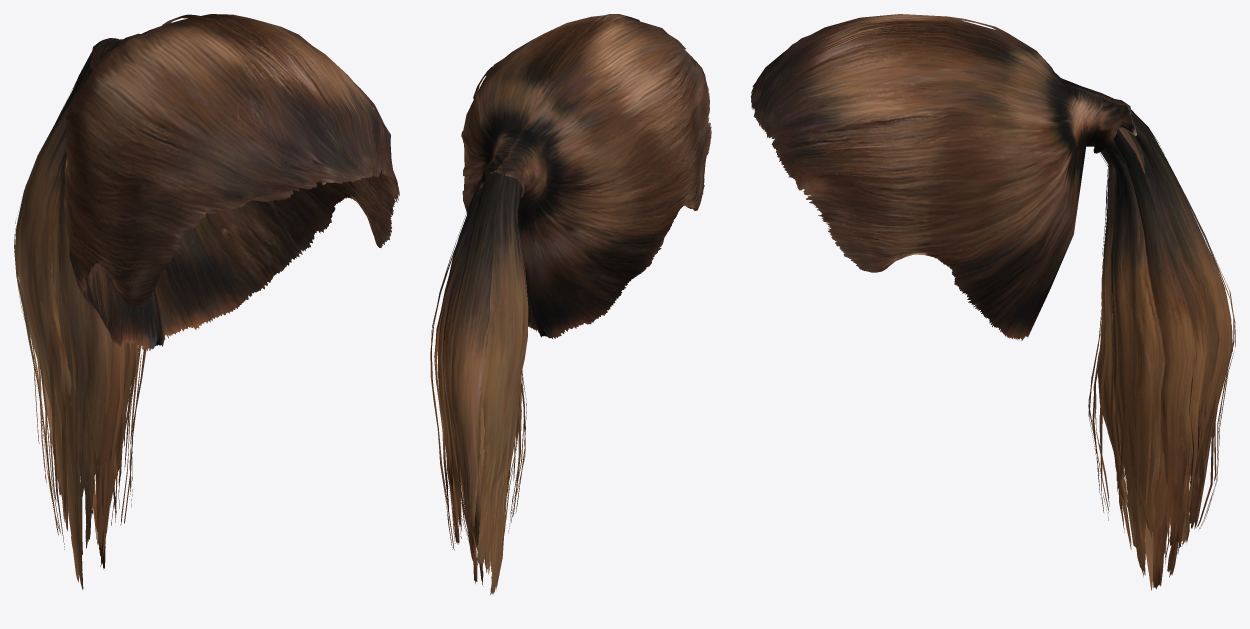
The model's file is mh_ponytail01.glb.
3 views of the same model, side by side, from view 1: azimuth 30°, elevation 25°; view 2: azimuth 150°, elevation 25°; view 3: azimuth 270°, elevation 25° (orthographic). The views are drawn at different scales.
Parts seen in each view (by area): view 1: mh_ponytail01; view 2: mh_ponytail01; view 3: mh_ponytail01.
Boxes of the visible parts, x1,y1,x2,y2 form: mh_ponytail01: [14, 14, 399, 589]; mh_ponytail01: [430, 14, 711, 594]; mh_ponytail01: [750, 14, 1235, 590].
Size of the model in its own units: 0.1616 by 0.3972 by 0.2949.
1 material, 1 textured.
